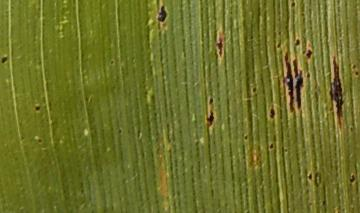tarspot: (327, 55, 347, 129), (281, 51, 294, 115), (294, 58, 304, 113), (155, 2, 170, 25), (214, 37, 226, 59), (205, 109, 217, 127), (265, 105, 277, 121), (33, 100, 43, 115), (304, 46, 314, 61), (347, 172, 357, 185), (1, 54, 11, 66), (305, 170, 315, 182), (207, 94, 216, 107), (251, 83, 259, 97), (265, 141, 276, 151), (293, 36, 302, 47), (289, 2, 299, 8)
